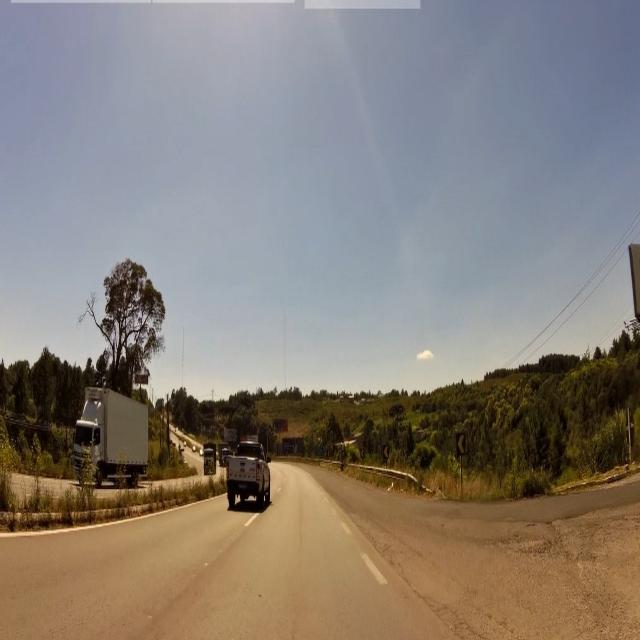Del: (456, 432, 466, 456)
